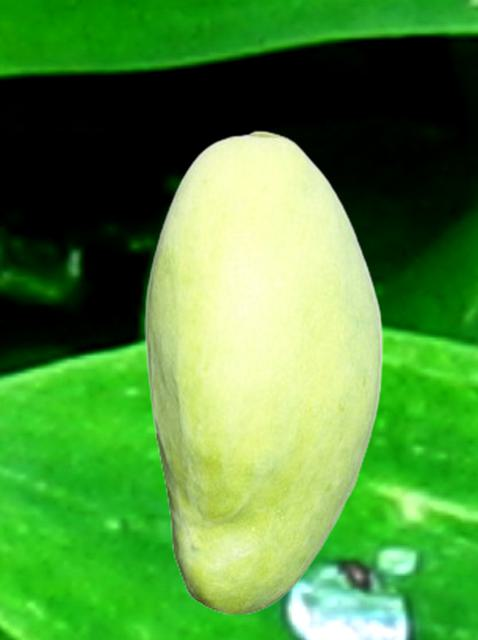green_mango: (144, 130, 382, 614)
